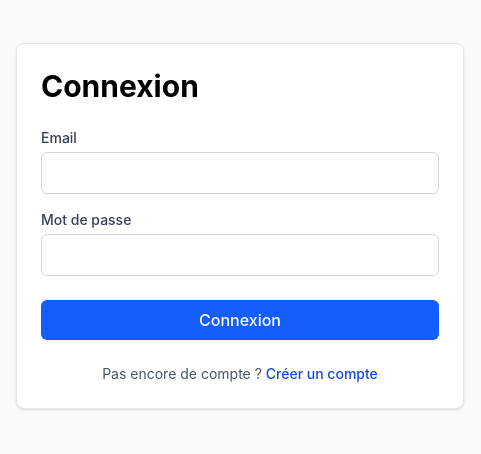
Test: LoginPage › shows the stable invalid credentials message for a 401
The image size is (481, 454).
Type "  Ada@Example.com  " into the field labelled "Email".
click(240, 173); type("  Ada@Example.com  ")  # box left=41, top=152, right=439, bottom=194
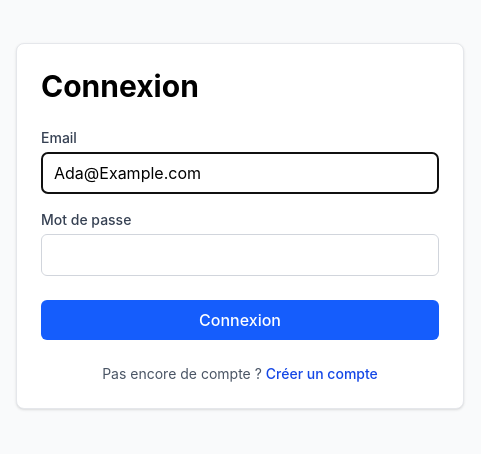
Type "secret-password" into the password field labelled "Mot de passe".
click(240, 255); type("secret-password")  # box left=41, top=234, right=439, bottom=276
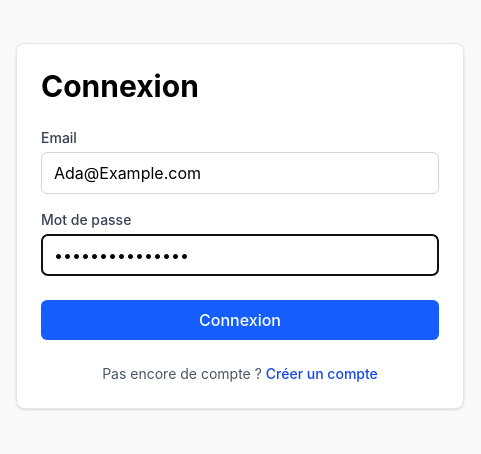
Click the button "Connexion".
click(240, 320)  # box left=41, top=300, right=439, bottom=340
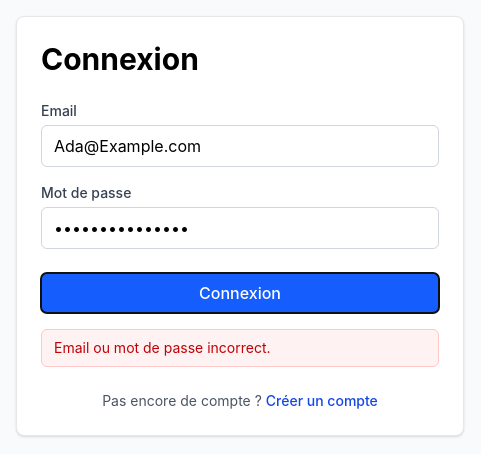
Expected: the heading "Connexion" is shown, left=41, top=41, right=199, bottom=77
Now the message reads "Email ou mot de passe incorrect.", box left=54, top=339, right=270, bottom=356
